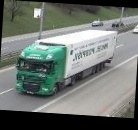truck: (14, 25, 118, 100)
